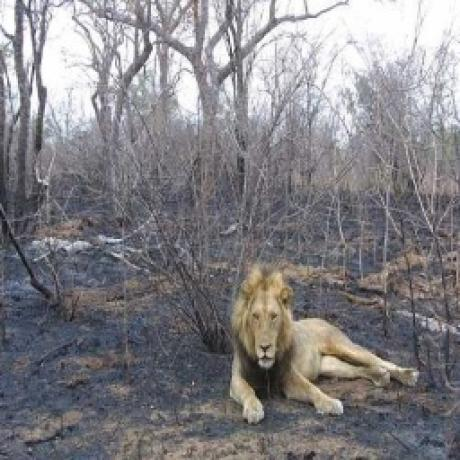Lion: (228, 266, 420, 428)
